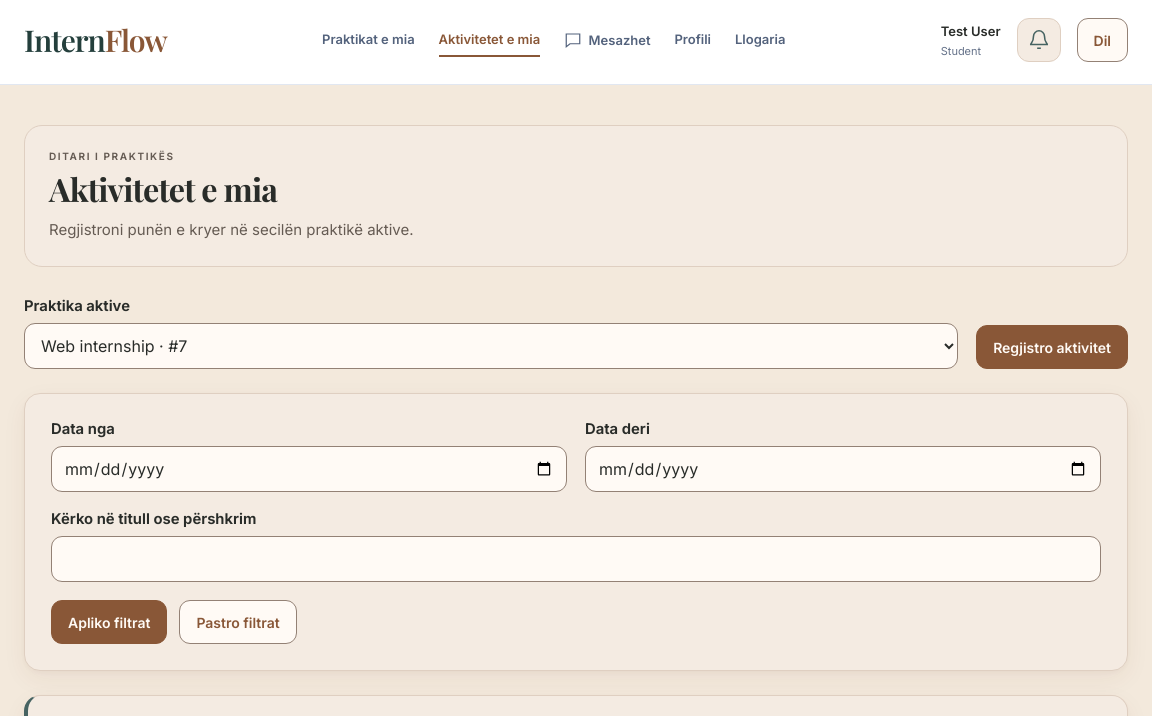
Test case: student applies explicit date and trimmed search filters and displays both server totals
In the date field labelled "Data nga": (309, 469) x1=51 y1=446 x2=567 y2=492, type "2026-10-02"
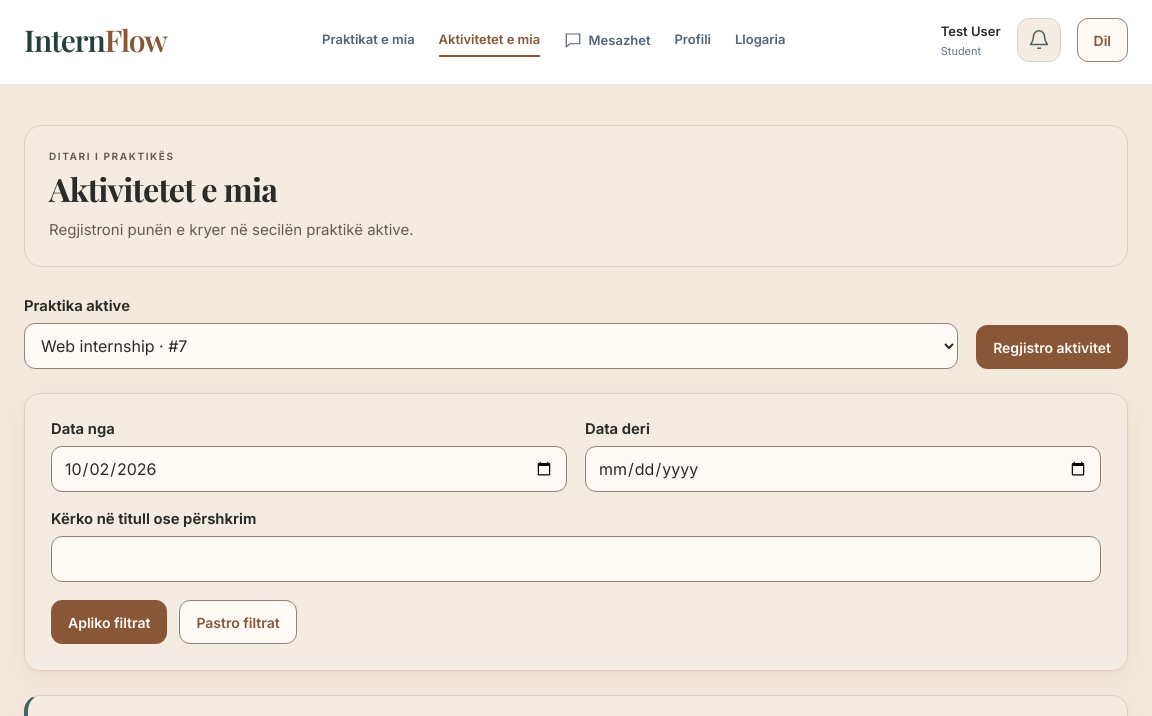
In the date field labelled "Data deri": (843, 469) x1=585 y1=446 x2=1101 y2=492, type "2026-10-03"
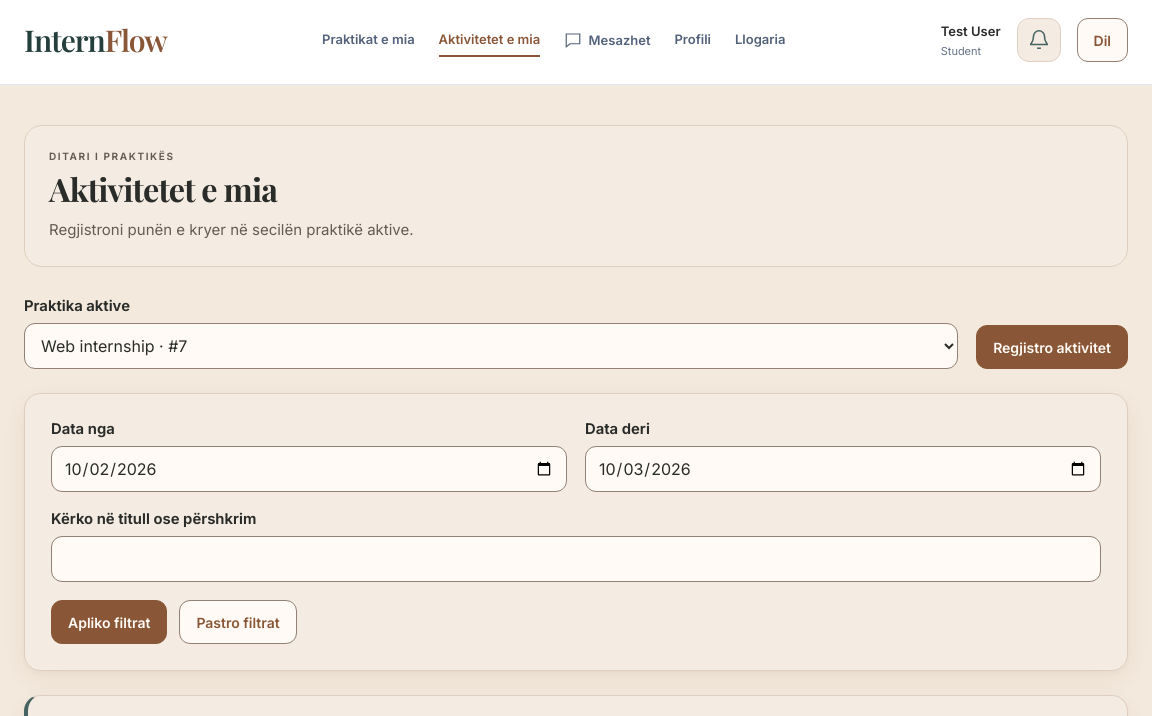
In the search field labelled "Kërko në titull ose përshkrim": (576, 559) x1=51 y1=536 x2=1101 y2=582, type "  diary%_  "
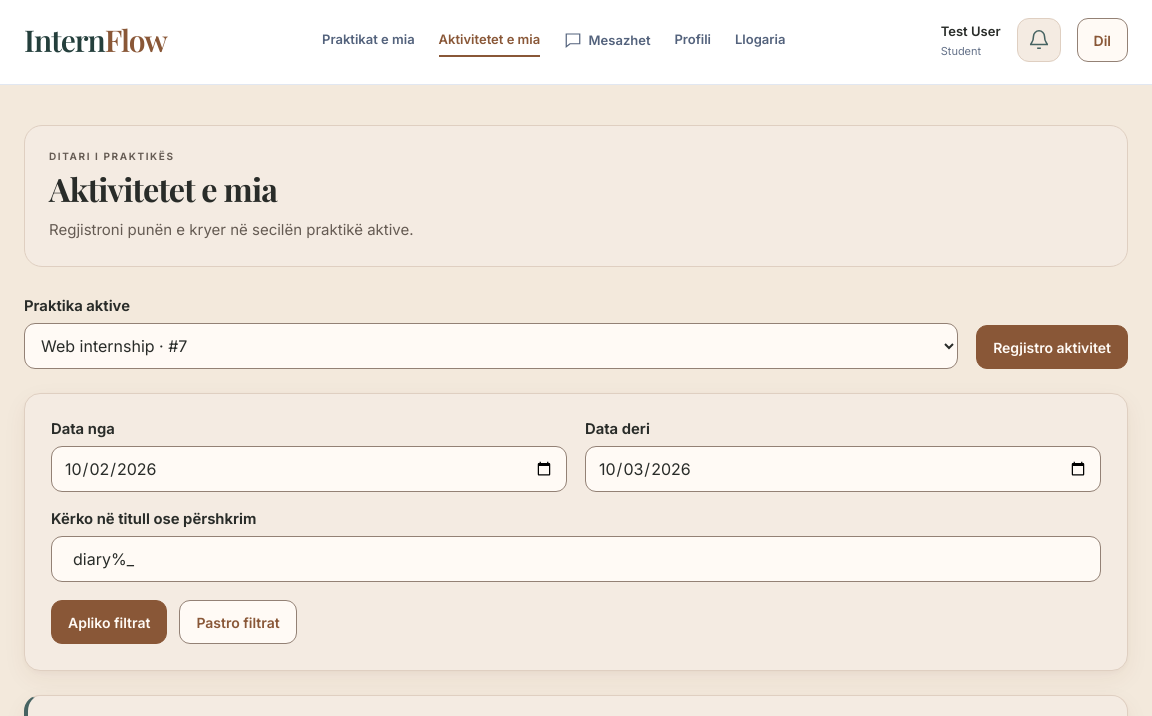
Click the button "Apliko filtrat": (109, 622) x1=51 y1=600 x2=167 y2=644
(page scrolled)
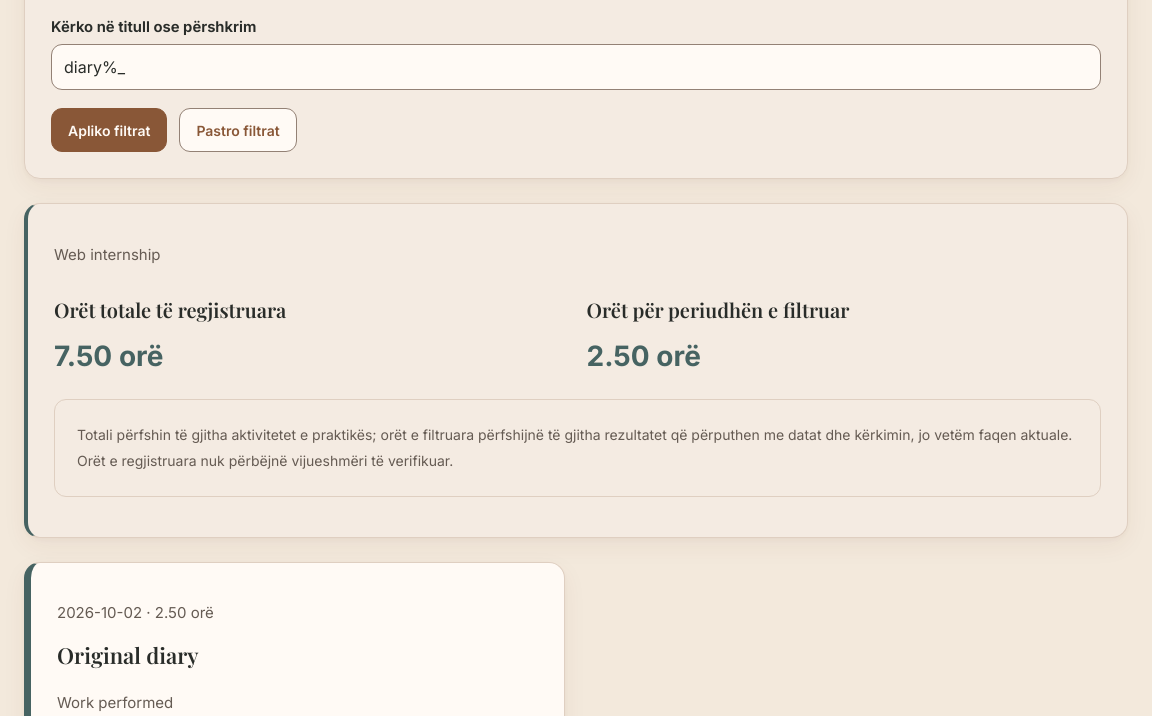
Expected: the text "7.50 orë" is shown, x1=54 y1=339 x2=164 y2=373
Now the text "2.50 orë" is shown, box x1=586 y1=339 x2=701 y2=373
